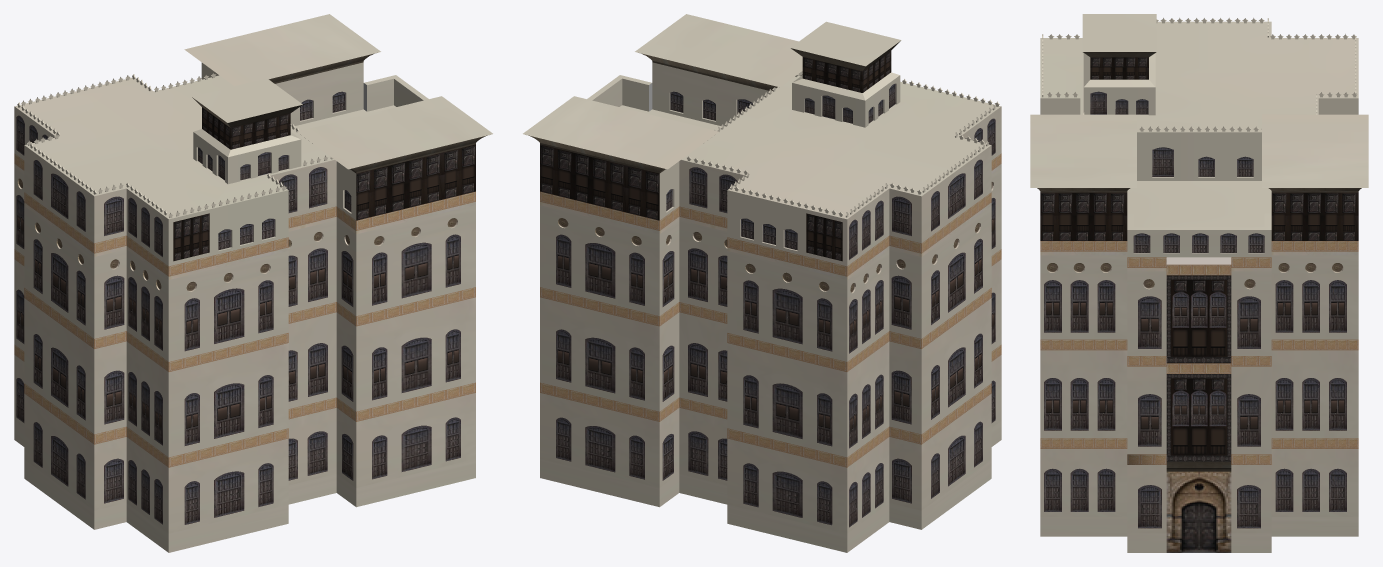
3 views of the same model, side by side, from view 1: azimuth 30°, elevation 25°; view 2: azimuth 150°, elevation 25°; view 3: azimuth 270°, elevation 25° (orthographic). The views are drawn at different scales.
Parts seen in each view (by area): view 1: Line001; view 2: Line001; view 3: Line001.
Part boxes in pixels (x1,y1,x2,y2): Line001: (14, 14, 492, 552); Line001: (523, 14, 1001, 552); Line001: (1030, 14, 1368, 552).
Size of the model in its own units: 16.1 by 15.76 by 11.84.
Materials: 9 (8 with a texture image).
